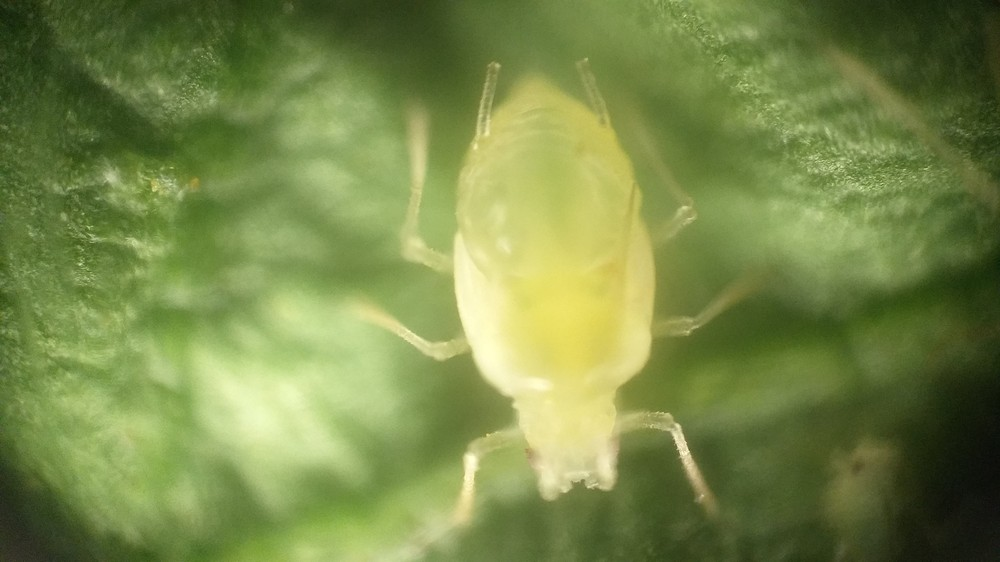Pulgon: (369, 53, 755, 544)
